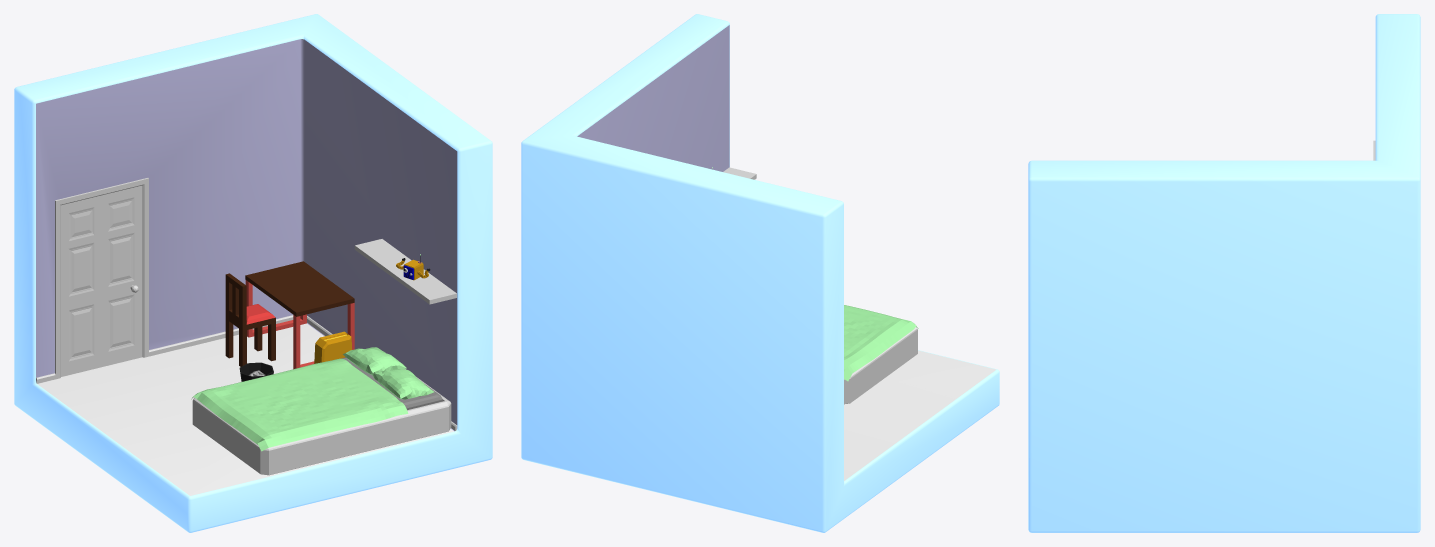
File: CozzyRoom_4.glb
3 views of the same model, side by side, from view 1: azimuth 30°, elevation 25°; view 2: azimuth 150°, elevation 25°; view 3: azimuth 270°, elevation 25° (orthographic). The views are drawn at different scales.
Visible parts, largest first — view 1: Cube.024, Cube.004, Plane.005, Cube.002, Cube.017, Cube.023, Cube.008, Cube.007, Plane.007, Cube.005, Plane.006, Cube.014 (+2 smaller); view 2: Cube.024, Plane.005, Cube.002; view 3: Cube.024.
Part boxes in pixels (box(x1,y1,x2,y2)): Cube.024: box(14, 14, 492, 532); Cube.004: box(61, 185, 142, 376); Plane.005: box(191, 358, 408, 451); Cube.002: box(192, 357, 451, 475); Cube.017: box(245, 261, 354, 369); Cube.023: box(225, 273, 275, 366); Cube.008: box(354, 239, 456, 304); Cube.007: box(142, 178, 148, 357); Plane.007: box(372, 369, 433, 399); Cube.005: box(55, 199, 60, 379); Plane.006: box(343, 347, 406, 374); Cube.014: box(314, 331, 352, 363); Cube.024: box(521, 14, 999, 532); Plane.005: box(844, 305, 918, 381); Cube.002: box(844, 327, 917, 404); Cube.024: box(1028, 14, 1420, 532).
Size of the model in its own units: 2.26 by 2.26 by 2.26.
